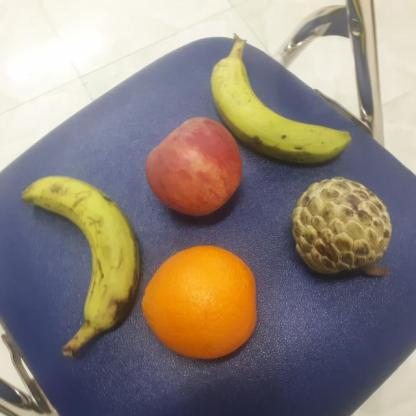annona: (288, 175, 394, 282)
apple: (142, 113, 245, 218)
banana: (20, 171, 141, 332), (208, 52, 354, 166)
orange: (137, 240, 260, 362)
